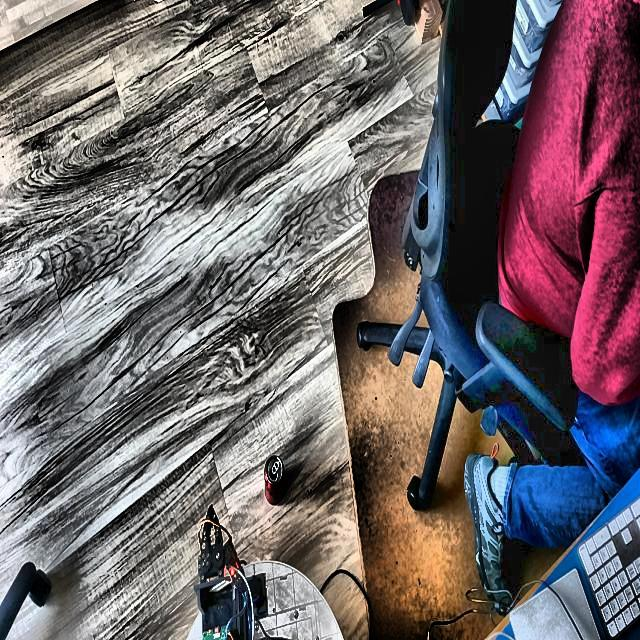CokeZero-can: (264, 453, 286, 506)
